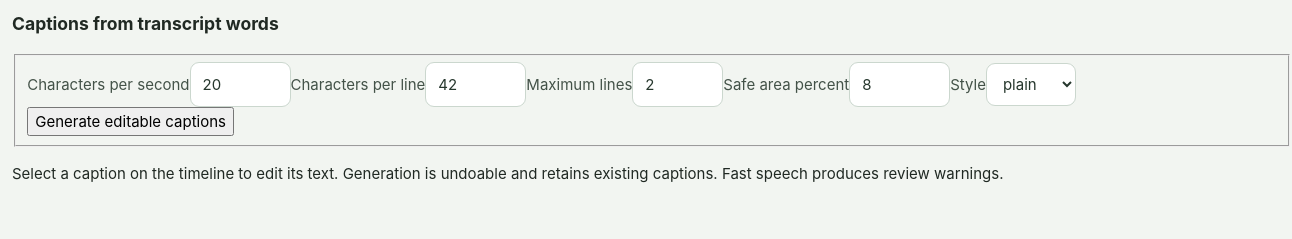
generates captions with the current revision and surfaces readability warnings
Replace the text in the number field labelled "Characters per line" with "32" at x=476, y=84, box [425,62,526,107]
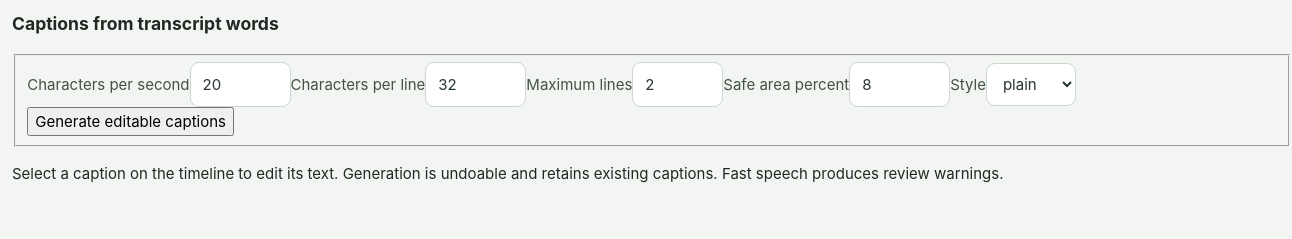
Click the button "Generate editable captions" at x=131, y=121, box [27,107,234,136]
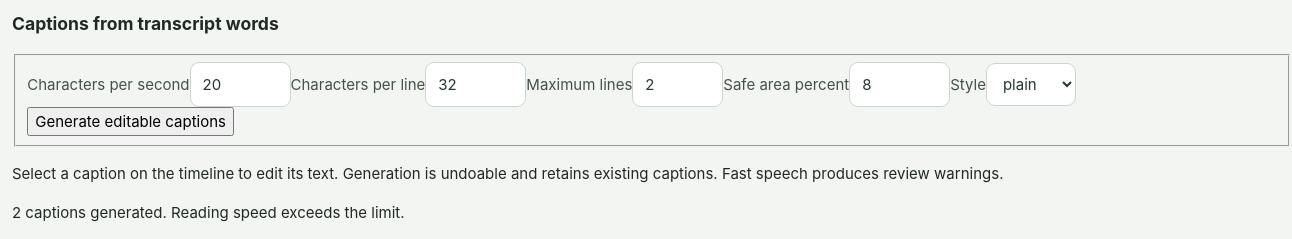
Expected: the text "2 captions generated. Reading speed exceeds the limit." is shown, [12,203,405,222]
